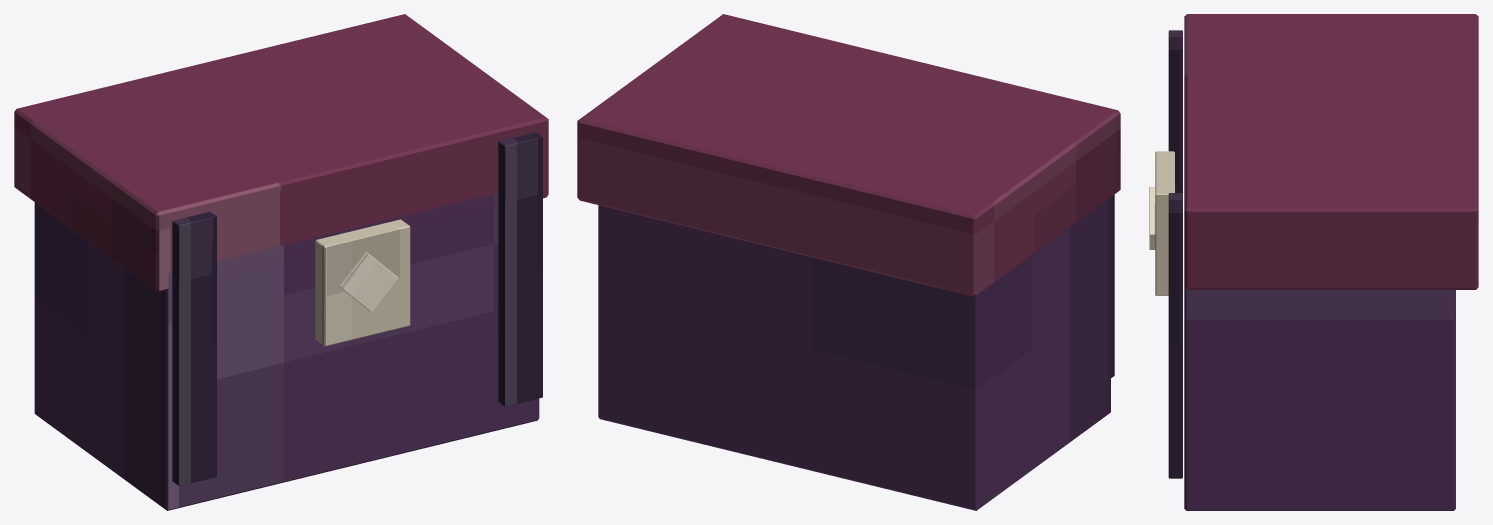
The model's file is toy_chest_violet.glb.
3 renders of one model, left to right at view 1: azimuth 30°, elevation 25°; view 2: azimuth 150°, elevation 25°; view 3: azimuth 270°, elevation 25°, orthographic. The views are drawn at different scales.
Visible parts, largest first — view 1: ChestBody, ChestLid, ChestBand_L, ChestBand_R, ChestLatch, ChestHeart; view 2: ChestBody, ChestLid, ChestBand_L; view 3: ChestLid, ChestBody, ChestBand_R, ChestLatch, ChestBand_L, ChestHeart.
Boxes of the visible parts, x1,y1,x2,y2 form: ChestBody: [34, 192, 539, 510]; ChestLid: [14, 14, 548, 292]; ChestBand_L: [172, 211, 216, 486]; ChestBand_R: [498, 132, 542, 406]; ChestLatch: [315, 219, 410, 346]; ChestHeart: [339, 252, 398, 312]; ChestBody: [598, 197, 1110, 510]; ChestLid: [577, 14, 1120, 296]; ChestBand_L: [1111, 194, 1114, 377]; ChestLid: [1184, 14, 1478, 289]; ChestBody: [1184, 287, 1455, 510]; ChestBand_R: [1168, 193, 1182, 478]; ChestLatch: [1155, 151, 1174, 295]; ChestBand_L: [1168, 30, 1182, 193]; ChestHeart: [1149, 187, 1155, 249].
Size of the model in its own units: 0.82 by 0.6 by 0.582.
Materials: 1 (1 with a texture image).
